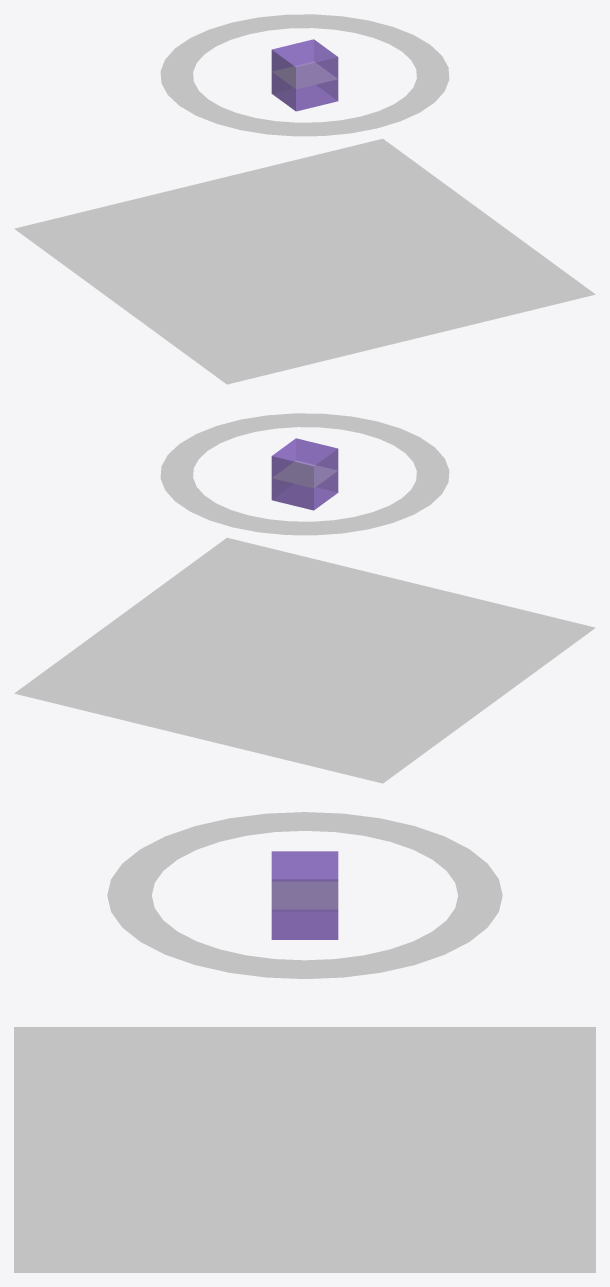
File: GeometryNodeFlower.glb
3 renders of one model, top to bottom at view 1: azimuth 30°, elevation 25°; view 2: azimuth 150°, elevation 25°; view 3: azimuth 270°, elevation 25°, orthographic. The views are drawn at different scales.
Visible parts, largest first — view 1: Plane.001, Particles, Materials Cube, Flower; view 2: Plane.001, Particles, Materials Cube, Flower; view 3: Plane.001, Particles, Materials Cube, Flower.
Part boxes in pixels (left/top/right/bottom): Plane.001: left=14, top=138, right=595, bottom=384; Particles: left=160, top=14, right=449, bottom=136; Materials Cube: left=271, top=39, right=338, bottom=111; Flower: left=272, top=61, right=336, bottom=88; Plane.001: left=14, top=537, right=595, bottom=783; Particles: left=160, top=413, right=449, bottom=535; Materials Cube: left=271, top=438, right=338, bottom=510; Flower: left=273, top=460, right=337, bottom=487; Plane.001: left=14, top=1027, right=595, bottom=1272; Particles: left=107, top=812, right=502, bottom=978; Materials Cube: left=271, top=851, right=338, bottom=939; Flower: left=272, top=882, right=337, bottom=909.
Size of the model in its own units: 17.47 by 9.43 by 17.47.
